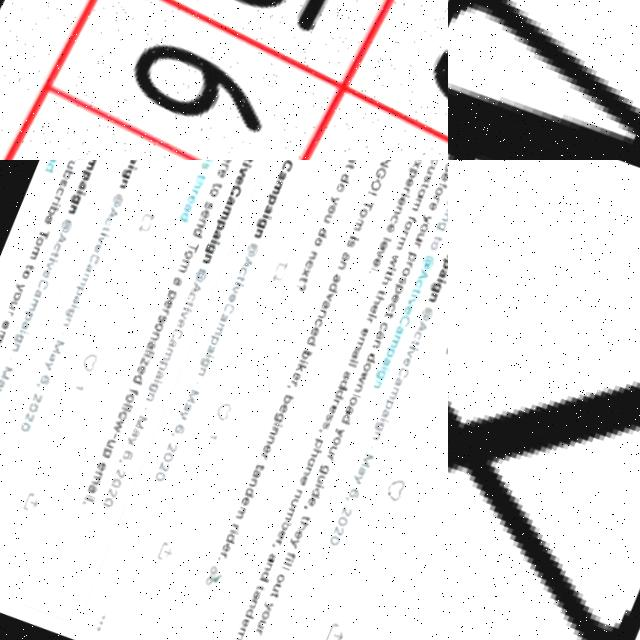0: (411, 27, 448, 160), (325, 539, 338, 552), (100, 499, 112, 512), (24, 403, 36, 416), (17, 421, 29, 434), (333, 521, 345, 533), (159, 455, 171, 467), (108, 480, 119, 492), (152, 474, 163, 485)
1: (73, 384, 82, 393), (207, 436, 216, 444), (321, 160, 330, 166)
2: (29, 393, 43, 407), (337, 512, 349, 524), (329, 532, 341, 543), (104, 490, 116, 501), (21, 413, 32, 425), (164, 446, 175, 457), (155, 465, 166, 476), (112, 471, 123, 482)
5: (173, 0, 350, 57)
6: (111, 20, 288, 160), (36, 375, 49, 388), (170, 427, 183, 439), (345, 494, 357, 506), (118, 452, 130, 464)
A: (187, 283, 201, 300), (415, 275, 428, 290), (414, 327, 426, 340), (240, 260, 252, 273), (318, 304, 330, 316), (216, 315, 228, 327), (144, 343, 156, 355), (181, 205, 193, 217), (68, 296, 80, 308), (45, 353, 57, 365), (75, 181, 87, 193), (434, 276, 446, 287), (390, 383, 401, 395), (377, 414, 388, 426), (378, 363, 390, 374), (372, 336, 383, 348), (263, 557, 274, 569), (248, 594, 259, 606), (339, 256, 350, 268), (249, 472, 260, 484), (275, 174, 286, 186), (224, 199, 235, 211), (210, 233, 221, 245), (165, 340, 176, 352), (171, 279, 182, 291), (82, 265, 94, 276), (17, 321, 29, 332), (106, 209, 117, 221), (353, 472, 364, 483), (392, 331, 403, 342), (341, 410, 352, 421), (348, 355, 359, 366), (339, 375, 350, 386), (329, 279, 340, 290), (261, 209, 272, 220), (179, 405, 190, 416), (152, 372, 163, 383), (128, 430, 139, 441), (85, 485, 96, 496), (31, 289, 42, 300), (55, 235, 66, 246), (345, 160, 356, 170), (127, 160, 138, 169), (204, 347, 213, 357), (0, 377, 4, 389), (46, 160, 57, 164)
B: (60, 170, 74, 184), (45, 206, 58, 219), (298, 354, 310, 366), (280, 399, 292, 411), (278, 525, 289, 537), (442, 168, 448, 181)
C: (279, 163, 293, 178), (220, 306, 234, 320), (395, 371, 408, 386), (396, 320, 409, 335), (229, 187, 242, 202), (35, 278, 48, 293), (87, 253, 99, 267), (170, 330, 182, 343), (383, 308, 395, 320), (410, 337, 421, 349), (412, 285, 423, 297), (376, 327, 387, 339), (428, 162, 439, 174), (387, 220, 398, 232), (311, 322, 322, 334), (102, 219, 113, 231), (50, 243, 61, 255), (53, 187, 64, 199), (236, 270, 247, 281), (184, 295, 195, 306)
D: (307, 491, 321, 505), (303, 340, 317, 354), (316, 231, 330, 245), (337, 178, 351, 191), (363, 358, 376, 371), (336, 384, 348, 397), (338, 419, 350, 431), (130, 377, 142, 389), (177, 215, 189, 227), (44, 163, 56, 175), (332, 395, 344, 406), (242, 612, 253, 624), (327, 288, 338, 300), (192, 230, 203, 242), (258, 575, 269, 586), (242, 491, 253, 502), (223, 537, 234, 548)
E: (398, 363, 410, 375), (387, 299, 399, 311), (289, 534, 301, 546), (366, 309, 378, 321), (295, 480, 307, 492), (215, 172, 227, 184), (400, 311, 411, 323), (437, 178, 448, 190), (325, 409, 336, 421), (236, 621, 247, 633), (394, 203, 405, 215), (384, 229, 395, 241), (369, 263, 380, 275), (307, 332, 319, 343), (236, 499, 247, 511), (302, 264, 313, 276), (224, 296, 235, 308), (173, 321, 184, 333), (199, 212, 210, 224), (134, 368, 145, 380), (185, 197, 196, 209), (39, 269, 50, 281), (425, 208, 436, 219), (303, 502, 314, 513), (357, 333, 368, 344), (289, 376, 300, 387), (276, 408, 287, 419), (259, 448, 270, 459), (218, 546, 229, 557), (233, 179, 244, 190), (162, 302, 173, 313), (94, 464, 105, 475), (91, 245, 102, 256), (41, 215, 52, 226), (403, 184, 413, 196), (377, 246, 387, 257), (274, 534, 283, 546), (0, 319, 8, 331), (413, 160, 424, 168), (221, 160, 232, 168), (283, 160, 294, 166)
F: (405, 221, 417, 231), (436, 188, 447, 197), (282, 556, 293, 565), (127, 390, 137, 399)
G: (373, 173, 386, 188), (202, 246, 216, 259), (372, 375, 384, 388), (120, 170, 132, 183), (68, 194, 80, 207), (428, 289, 440, 301), (434, 227, 446, 239), (254, 221, 266, 233), (315, 468, 326, 480), (271, 416, 282, 428), (145, 385, 156, 397), (62, 309, 73, 321), (11, 333, 22, 345), (371, 427, 382, 438), (197, 360, 208, 371)
H: (379, 281, 391, 294), (295, 525, 306, 537), (308, 453, 319, 465), (372, 301, 383, 312), (191, 183, 202, 194), (204, 160, 215, 163)
I: (434, 284, 445, 292), (378, 371, 389, 379), (209, 242, 220, 249), (347, 364, 357, 371), (407, 351, 416, 358), (312, 488, 321, 495), (400, 199, 409, 206), (349, 240, 358, 247), (241, 166, 250, 173), (182, 309, 191, 316), (152, 381, 161, 388), (143, 355, 152, 362), (203, 160, 212, 167), (126, 166, 135, 173), (47, 257, 56, 264), (203, 356, 212, 363), (377, 423, 386, 429), (408, 301, 417, 307), (281, 562, 290, 568), (385, 273, 394, 279), (366, 320, 375, 326), (297, 364, 306, 370), (271, 427, 280, 433), (227, 533, 236, 539), (260, 218, 269, 224), (98, 233, 107, 239), (69, 305, 78, 311), (75, 191, 84, 197), (17, 331, 26, 337), (50, 203, 59, 209), (233, 285, 242, 291), (84, 495, 92, 500), (382, 160, 391, 164), (443, 216, 448, 222)
K: (293, 368, 304, 380)
L: (346, 368, 355, 375), (83, 498, 92, 505), (280, 566, 289, 572), (278, 570, 287, 576), (144, 353, 153, 359), (122, 406, 131, 412), (350, 399, 359, 404), (382, 243, 391, 248), (368, 273, 377, 278), (121, 410, 129, 415)
M: (448, 0, 640, 160), (159, 349, 173, 366), (357, 459, 371, 476), (131, 416, 145, 433), (231, 509, 245, 525), (183, 392, 197, 408), (386, 339, 399, 356), (409, 203, 422, 220), (218, 208, 231, 225), (176, 262, 189, 279), (89, 472, 102, 489), (76, 273, 89, 290), (27, 245, 40, 262), (384, 392, 397, 408), (393, 242, 406, 258), (270, 184, 283, 200), (49, 341, 62, 356), (281, 511, 293, 527), (351, 223, 363, 238), (211, 325, 222, 341), (26, 298, 37, 314), (353, 342, 364, 357), (0, 365, 10, 380), (230, 630, 244, 640), (84, 160, 95, 172), (443, 250, 448, 267), (0, 328, 5, 344)
N: (378, 161, 391, 174), (244, 482, 256, 494), (426, 299, 437, 311), (368, 436, 379, 448), (299, 470, 310, 482), (335, 265, 346, 277), (266, 430, 277, 442), (262, 439, 273, 451), (200, 257, 211, 269), (117, 181, 129, 192), (65, 206, 77, 217), (369, 385, 380, 396), (350, 389, 361, 400), (260, 566, 271, 577), (391, 211, 402, 222), (315, 314, 326, 325), (305, 255, 316, 266), (194, 371, 204, 381), (370, 344, 379, 355), (291, 493, 300, 504), (253, 232, 262, 243), (143, 395, 152, 406), (196, 222, 205, 233), (149, 334, 158, 345), (439, 219, 448, 229), (245, 604, 254, 614), (61, 319, 70, 329), (9, 344, 18, 354)
O: (367, 183, 382, 200), (333, 188, 345, 200), (32, 236, 44, 248), (18, 269, 30, 281), (417, 229, 428, 241), (398, 273, 410, 284), (345, 401, 356, 413), (256, 614, 267, 626), (356, 214, 368, 225), (182, 253, 193, 265), (152, 325, 163, 337), (123, 394, 134, 406), (116, 412, 127, 424), (9, 291, 20, 303), (432, 193, 443, 204), (329, 441, 340, 452), (415, 194, 426, 205), (324, 210, 335, 221), (311, 241, 322, 252), (208, 191, 219, 202), (428, 248, 438, 259), (360, 368, 369, 379), (402, 228, 411, 239), (304, 462, 313, 473), (273, 578, 282, 588)
P: (163, 292, 176, 305), (405, 174, 417, 186), (205, 338, 217, 350), (212, 224, 224, 236), (437, 264, 448, 277), (380, 405, 391, 417), (382, 353, 393, 365), (403, 257, 414, 269), (391, 290, 402, 302), (310, 443, 321, 455), (155, 362, 166, 374), (98, 449, 109, 461), (264, 199, 275, 210), (72, 287, 83, 298), (78, 172, 89, 183), (20, 311, 31, 322)
R: (270, 543, 280, 553), (188, 191, 198, 201), (50, 195, 60, 205), (399, 236, 408, 245), (286, 385, 295, 394), (227, 527, 236, 536), (219, 166, 228, 175), (256, 457, 266, 465), (411, 247, 419, 256), (402, 268, 411, 276), (250, 631, 258, 640), (363, 323, 372, 331), (400, 193, 409, 201), (215, 556, 224, 564), (159, 311, 168, 319), (330, 404, 338, 412), (430, 203, 439, 210), (323, 460, 331, 467), (4, 310, 12, 317)
S: (321, 418, 333, 430), (155, 316, 167, 328), (395, 282, 406, 294), (420, 181, 431, 193), (344, 244, 355, 256), (202, 204, 214, 215), (198, 164, 209, 176), (56, 179, 67, 191), (318, 426, 329, 437), (67, 160, 78, 163)
T: (360, 205, 372, 218), (185, 244, 197, 257), (36, 229, 48, 241), (194, 176, 205, 186), (408, 345, 418, 355), (297, 280, 307, 290), (409, 294, 420, 303), (252, 589, 262, 598), (432, 242, 441, 251), (299, 518, 308, 527), (376, 294, 385, 303), (234, 279, 243, 288), (183, 303, 192, 312), (23, 264, 32, 273), (266, 596, 276, 604), (419, 189, 429, 197), (383, 276, 393, 284), (344, 168, 354, 176), (242, 160, 252, 168), (383, 317, 392, 325), (254, 467, 263, 475), (212, 185, 221, 193), (100, 228, 109, 236), (48, 252, 57, 260)
U: (412, 239, 423, 251), (64, 160, 75, 172), (268, 587, 279, 598), (325, 450, 335, 461), (313, 479, 323, 490), (321, 219, 331, 230), (6, 301, 16, 311), (253, 624, 262, 635), (425, 172, 434, 183), (105, 441, 114, 452), (287, 503, 296, 513)
V: (235, 169, 248, 183), (403, 303, 415, 315), (42, 261, 54, 273), (321, 296, 332, 308), (177, 312, 188, 324), (373, 255, 384, 266), (228, 288, 238, 299), (402, 355, 411, 366), (94, 237, 103, 248)
W: (354, 375, 367, 392), (387, 259, 398, 274), (111, 421, 122, 436)
X: (448, 160, 640, 640), (298, 272, 309, 284), (410, 167, 421, 178)
Y: (417, 218, 432, 232), (258, 605, 271, 618), (331, 432, 342, 444), (284, 542, 296, 553), (327, 201, 338, 213), (349, 479, 360, 491), (175, 412, 186, 424), (123, 437, 134, 449), (41, 361, 52, 373), (12, 282, 23, 293), (443, 206, 448, 217)
Z: (138, 359, 149, 371)
